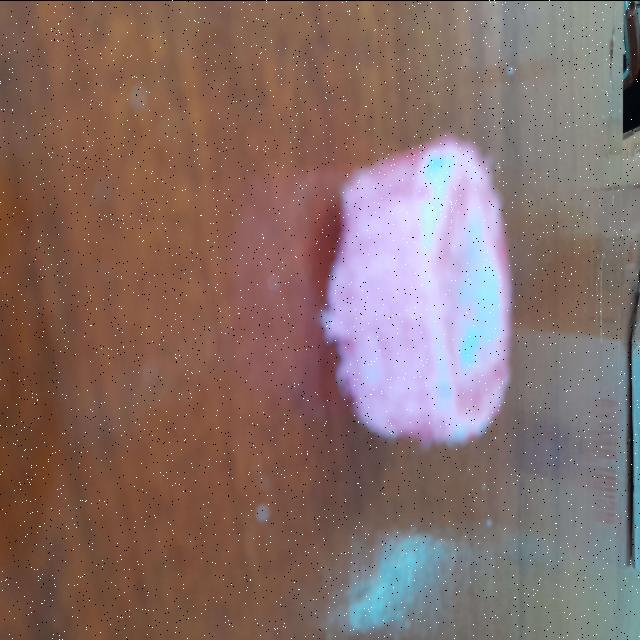wheel: (330, 134, 518, 470)
